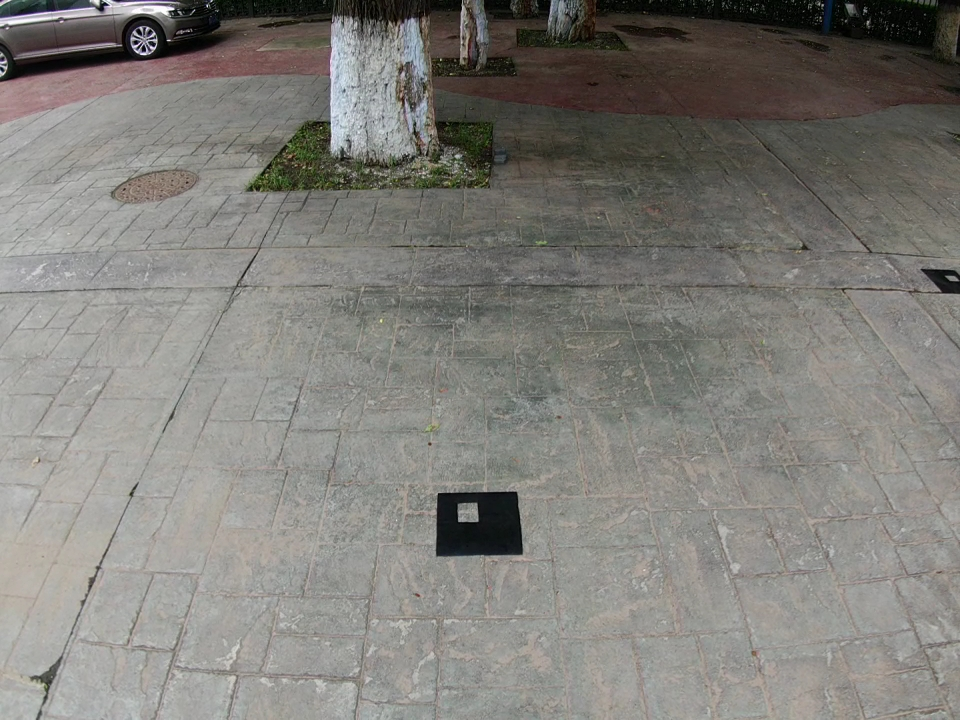qrcode: (437, 492, 524, 555)
